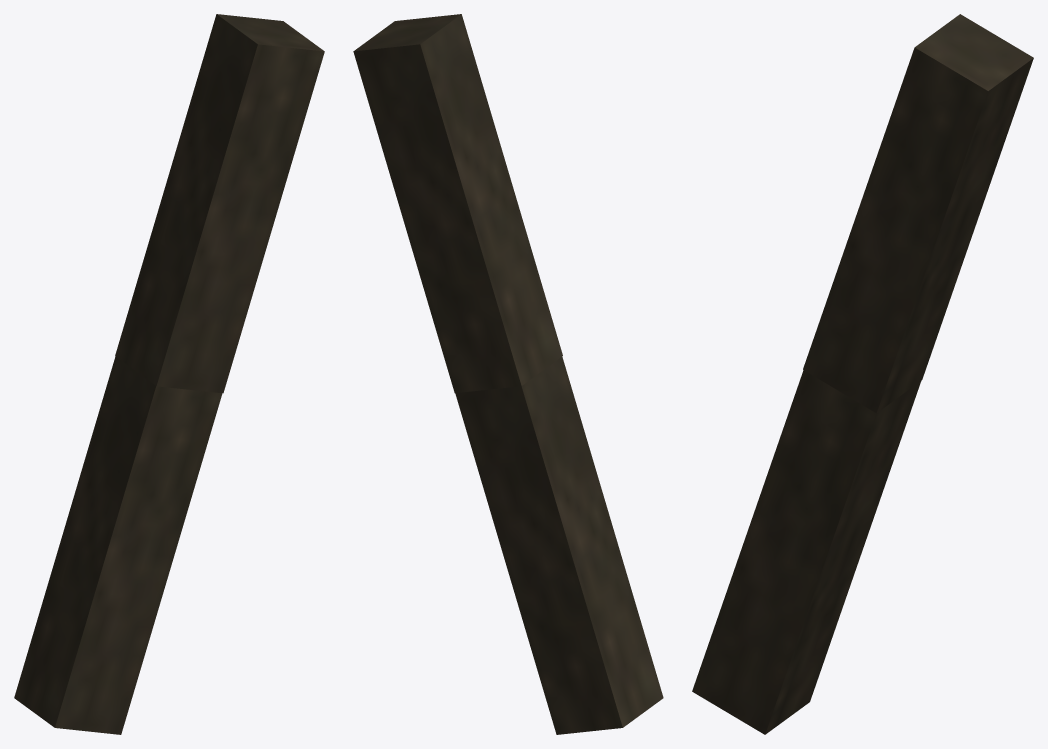
File: twisting_vines_diagonal_beamtall_left.obj
3 renders of one model, left to right at view 1: azimuth 30°, elevation 25°; view 2: azimuth 150°, elevation 25°; view 3: azimuth 330°, elevation 25°, orthographic. The views are drawn at different scales.
Parts seen in each view (by area): view 1: cube; view 2: cube; view 3: cube.
Part boxes in pixels (x1,y1,x2,y2): cube: [14, 14, 324, 734]; cube: [353, 14, 663, 734]; cube: [692, 14, 1033, 734].
Bounding box in the file's own units: 1.41 × 3.28 × 0.375.
